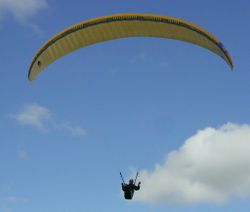Paraglider: (20, 11, 232, 85)
